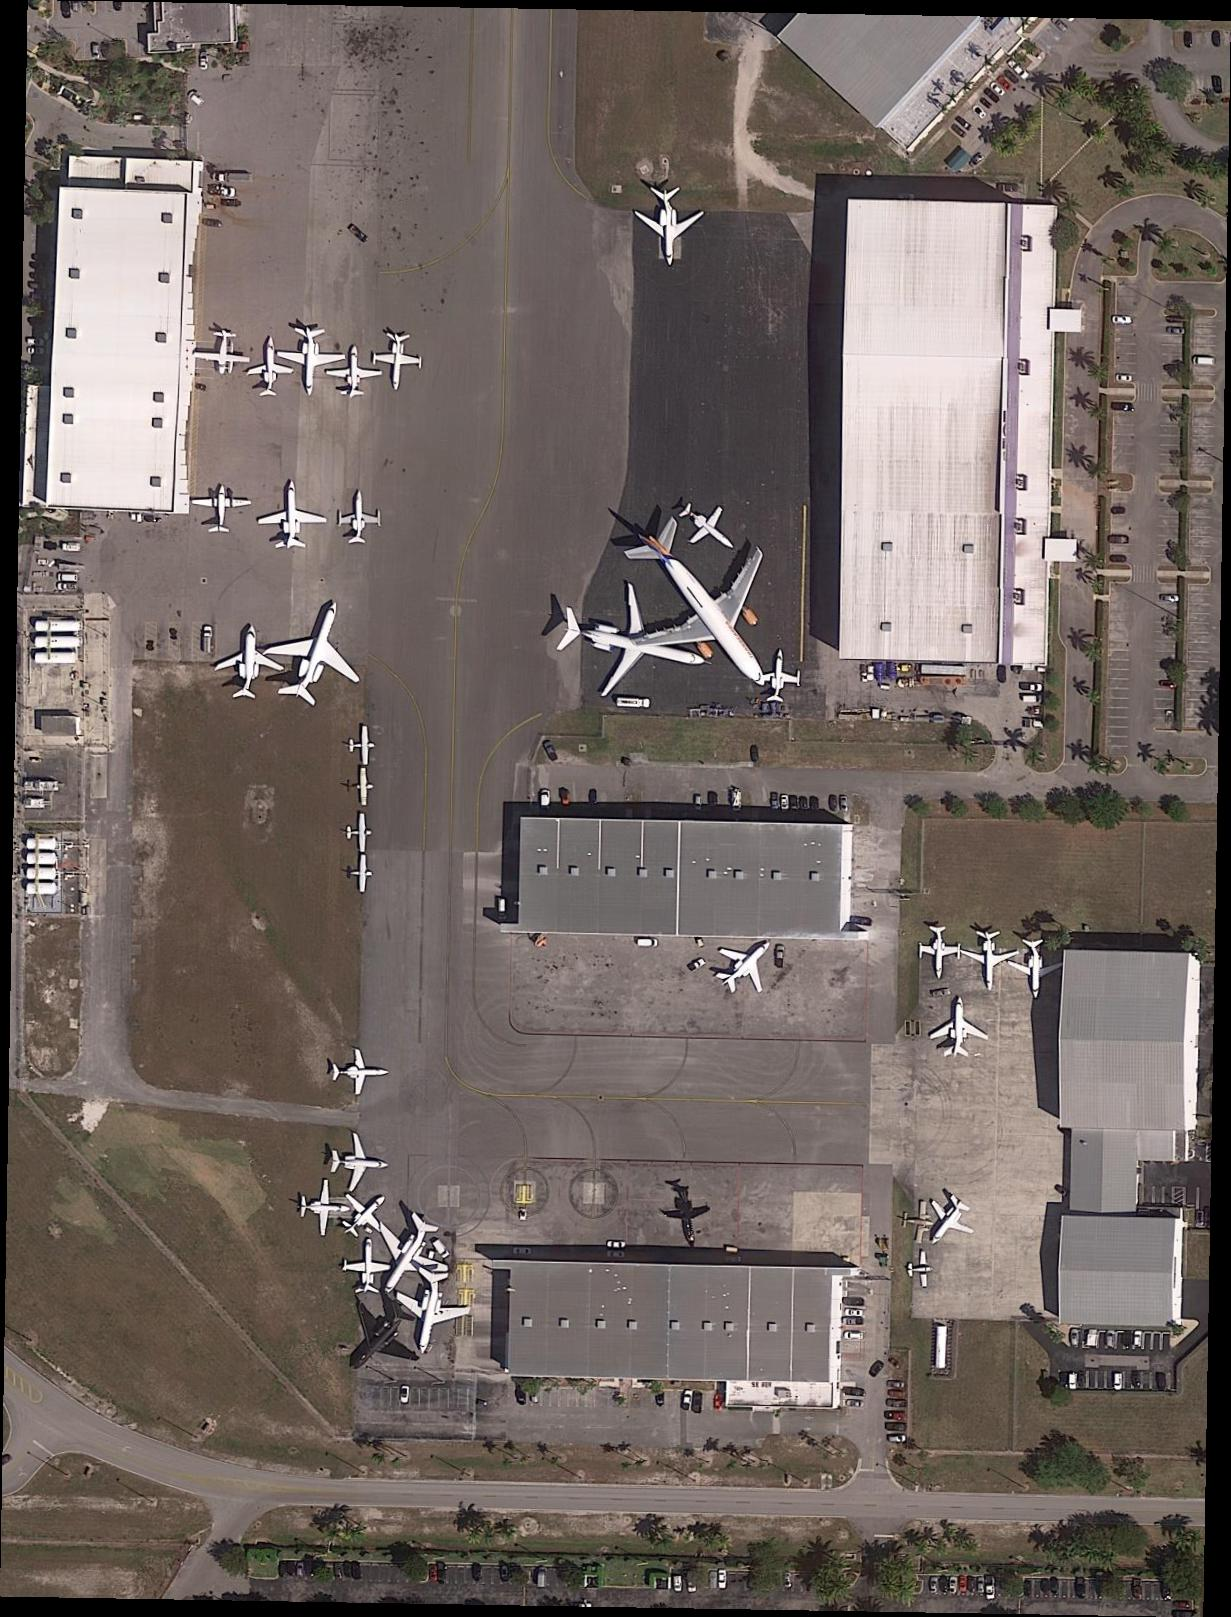plane: (587, 482, 828, 732), (543, 569, 718, 724), (253, 586, 381, 723), (347, 1200, 466, 1318), (385, 1265, 477, 1362), (705, 922, 790, 1008), (635, 184, 710, 269), (669, 490, 749, 567), (909, 1183, 987, 1263), (212, 626, 288, 706), (327, 1174, 400, 1251), (275, 323, 345, 396), (257, 481, 328, 551), (328, 1131, 393, 1196), (928, 995, 990, 1061), (659, 1183, 716, 1252), (959, 931, 1020, 993), (369, 328, 423, 393), (297, 1176, 353, 1238), (1007, 938, 1063, 1000), (189, 327, 252, 381), (191, 483, 253, 535), (325, 345, 383, 399), (331, 1044, 391, 1097), (341, 1237, 391, 1296), (756, 648, 803, 708), (248, 337, 294, 399), (918, 925, 963, 981), (337, 490, 381, 545), (899, 1197, 936, 1246), (341, 854, 372, 894), (347, 768, 376, 807), (348, 725, 376, 765), (906, 1251, 934, 1290), (347, 813, 372, 853)
